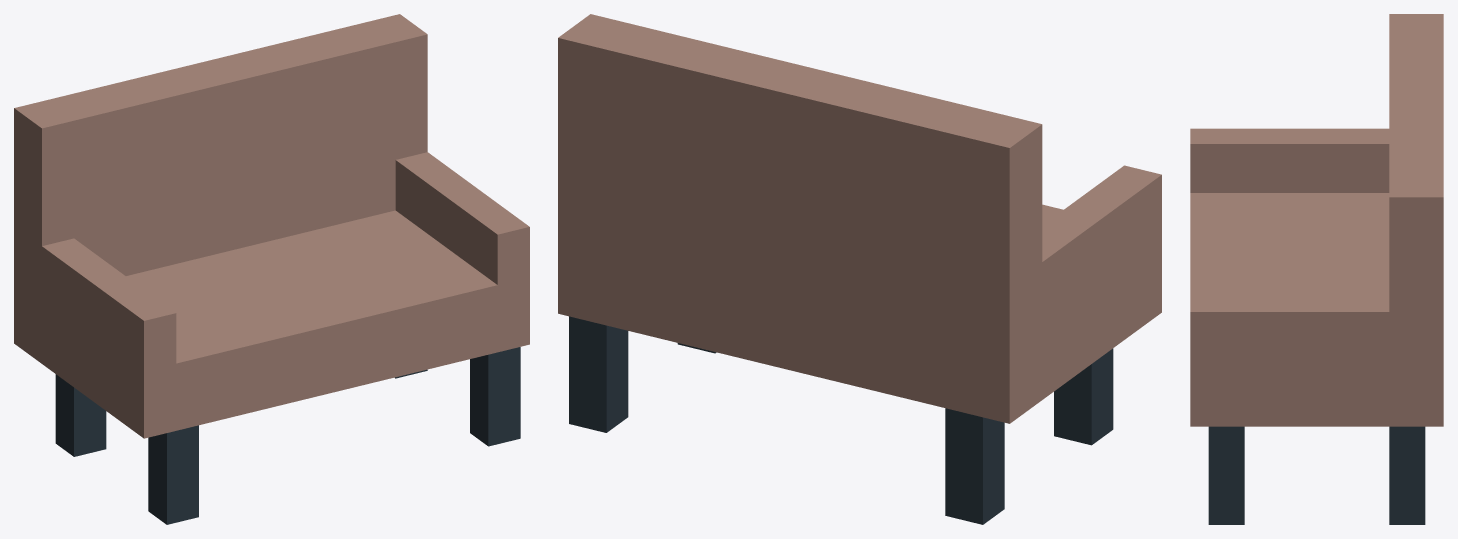
File: hospitality-06.glb
3 views of the same model, side by side, from view 1: azimuth 30°, elevation 25°; view 2: azimuth 150°, elevation 25°; view 3: azimuth 270°, elevation 25° (orthographic). The views are drawn at different scales.
Parts seen in each view (by area): view 1: Lobby sofa; view 2: Lobby sofa; view 3: Lobby sofa.
Boxes of the visible parts, <box> form: Lobby sofa: <box>14,14,529,524</box>; Lobby sofa: <box>558,14,1161,524</box>; Lobby sofa: <box>1190,14,1443,524</box>.
Bounding box in the file's own units: 1.92 × 1.6 × 1.12.
